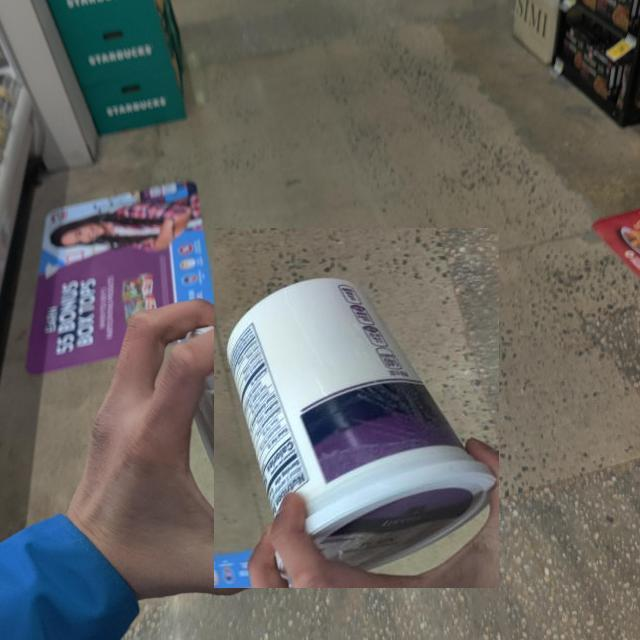Yogurt: (214, 227, 499, 588)
